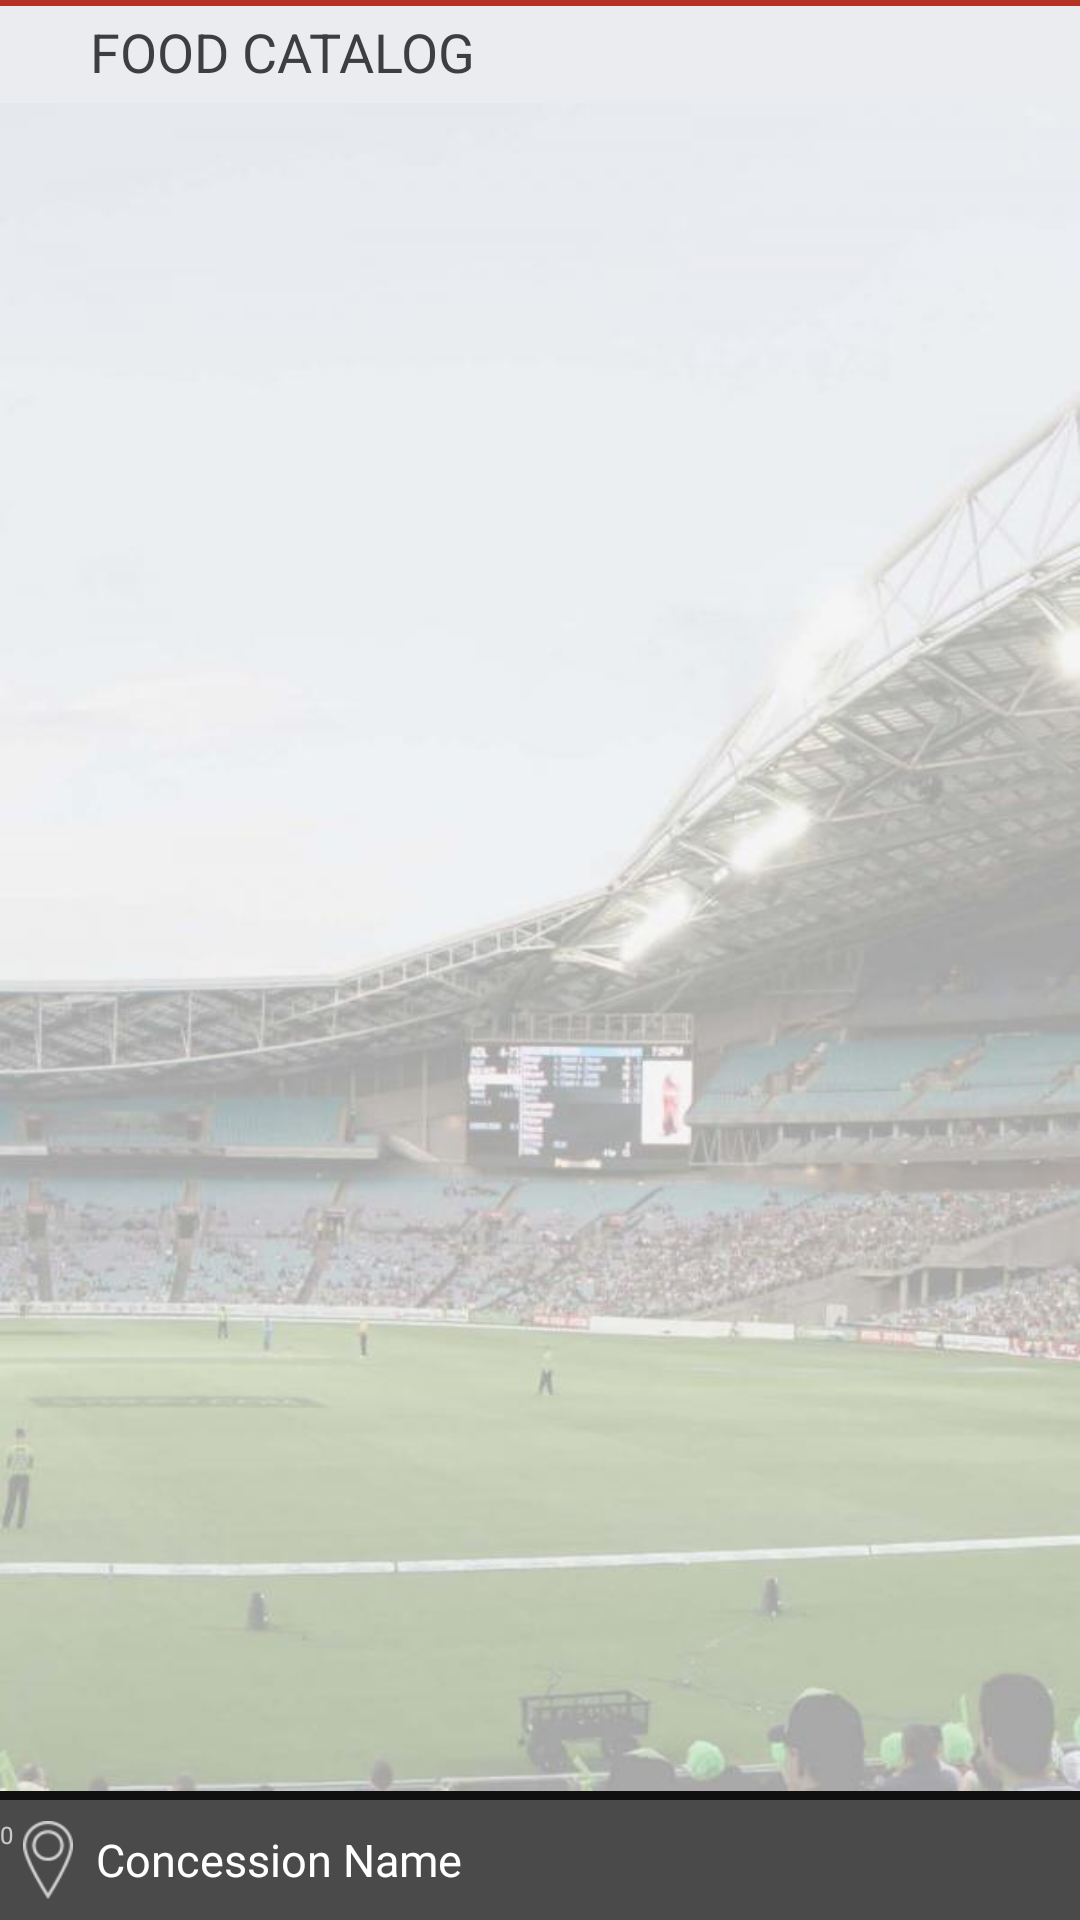

Icons on this 1080 x 1920 Android screen, each with its box as [x1,y1,x2,y2]:
drawer select venue: [1,1821,73,1899]
